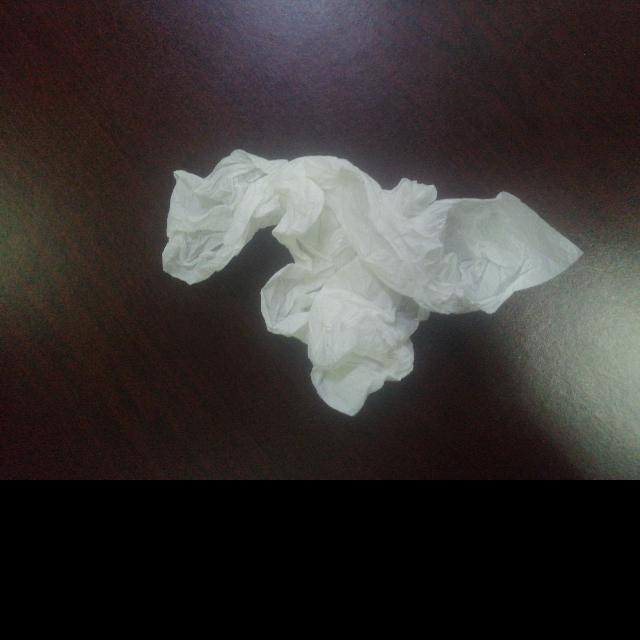kitchen paper: (158, 146, 588, 422)
